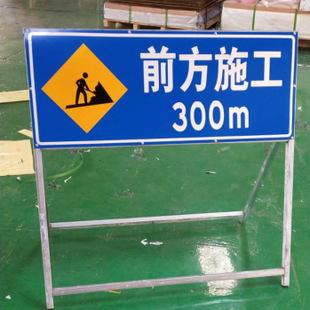sign: (27, 29, 295, 140)
